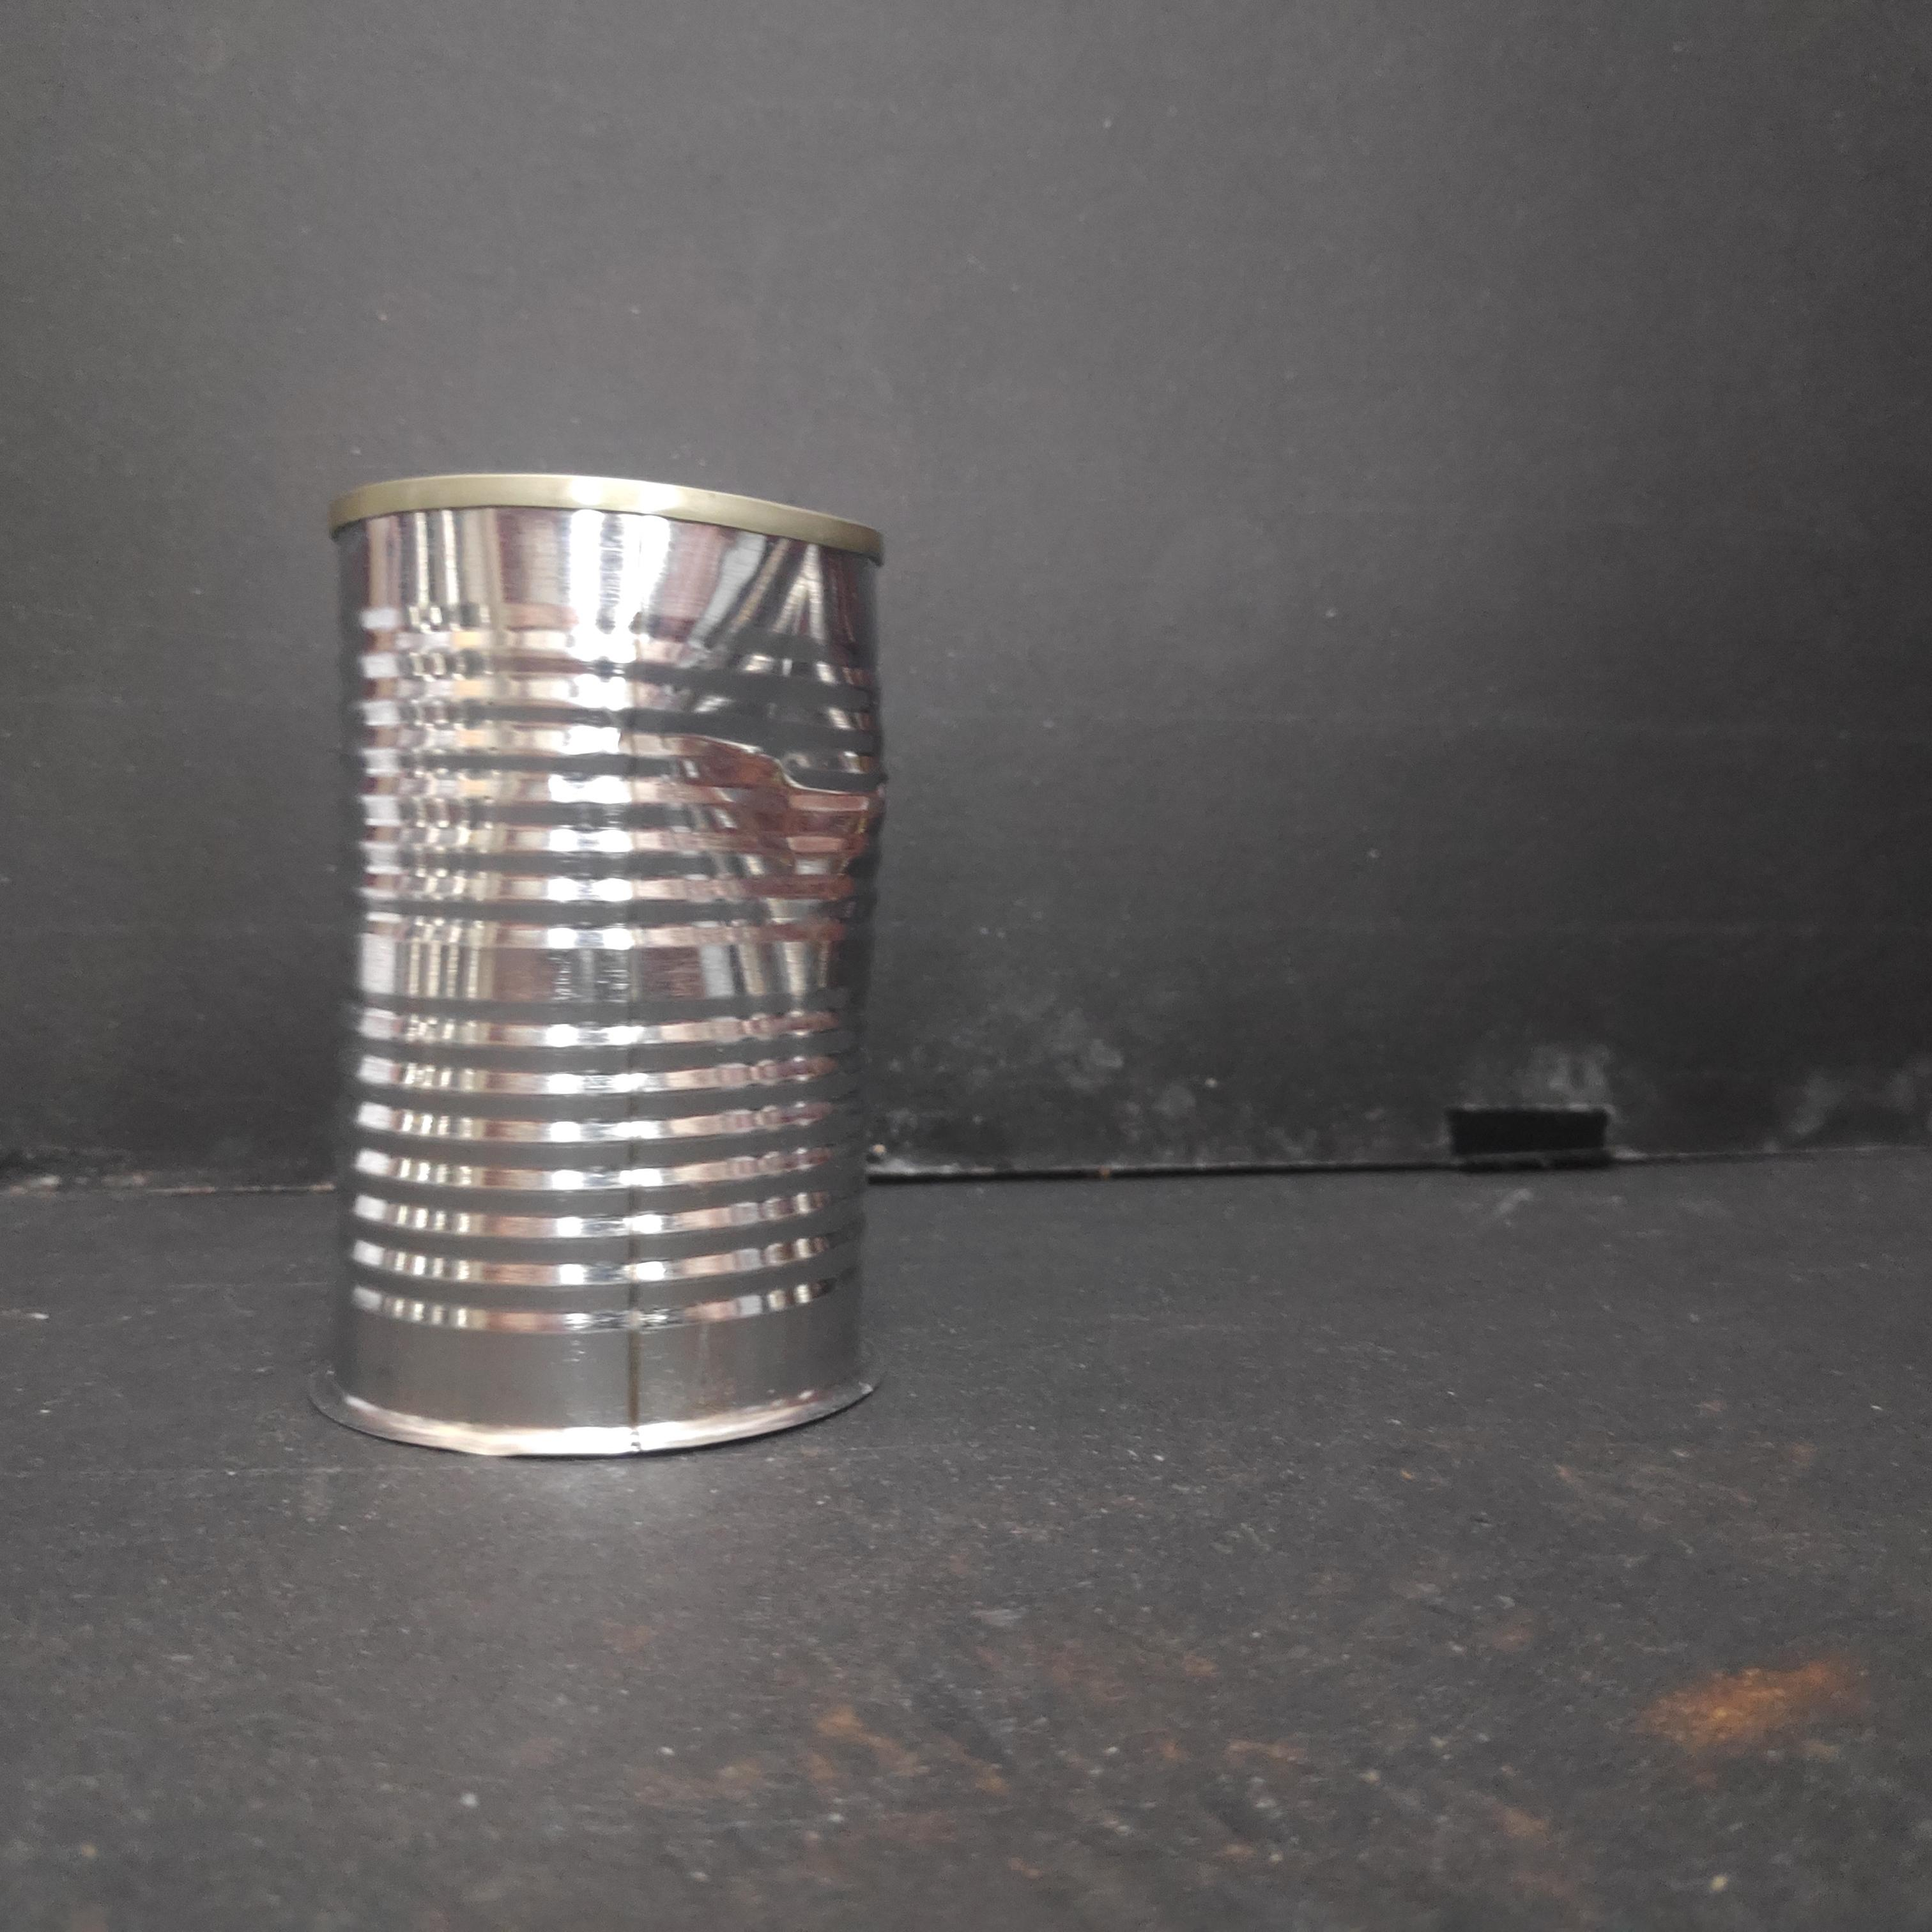Minor Defect: (317, 467, 909, 1468)
